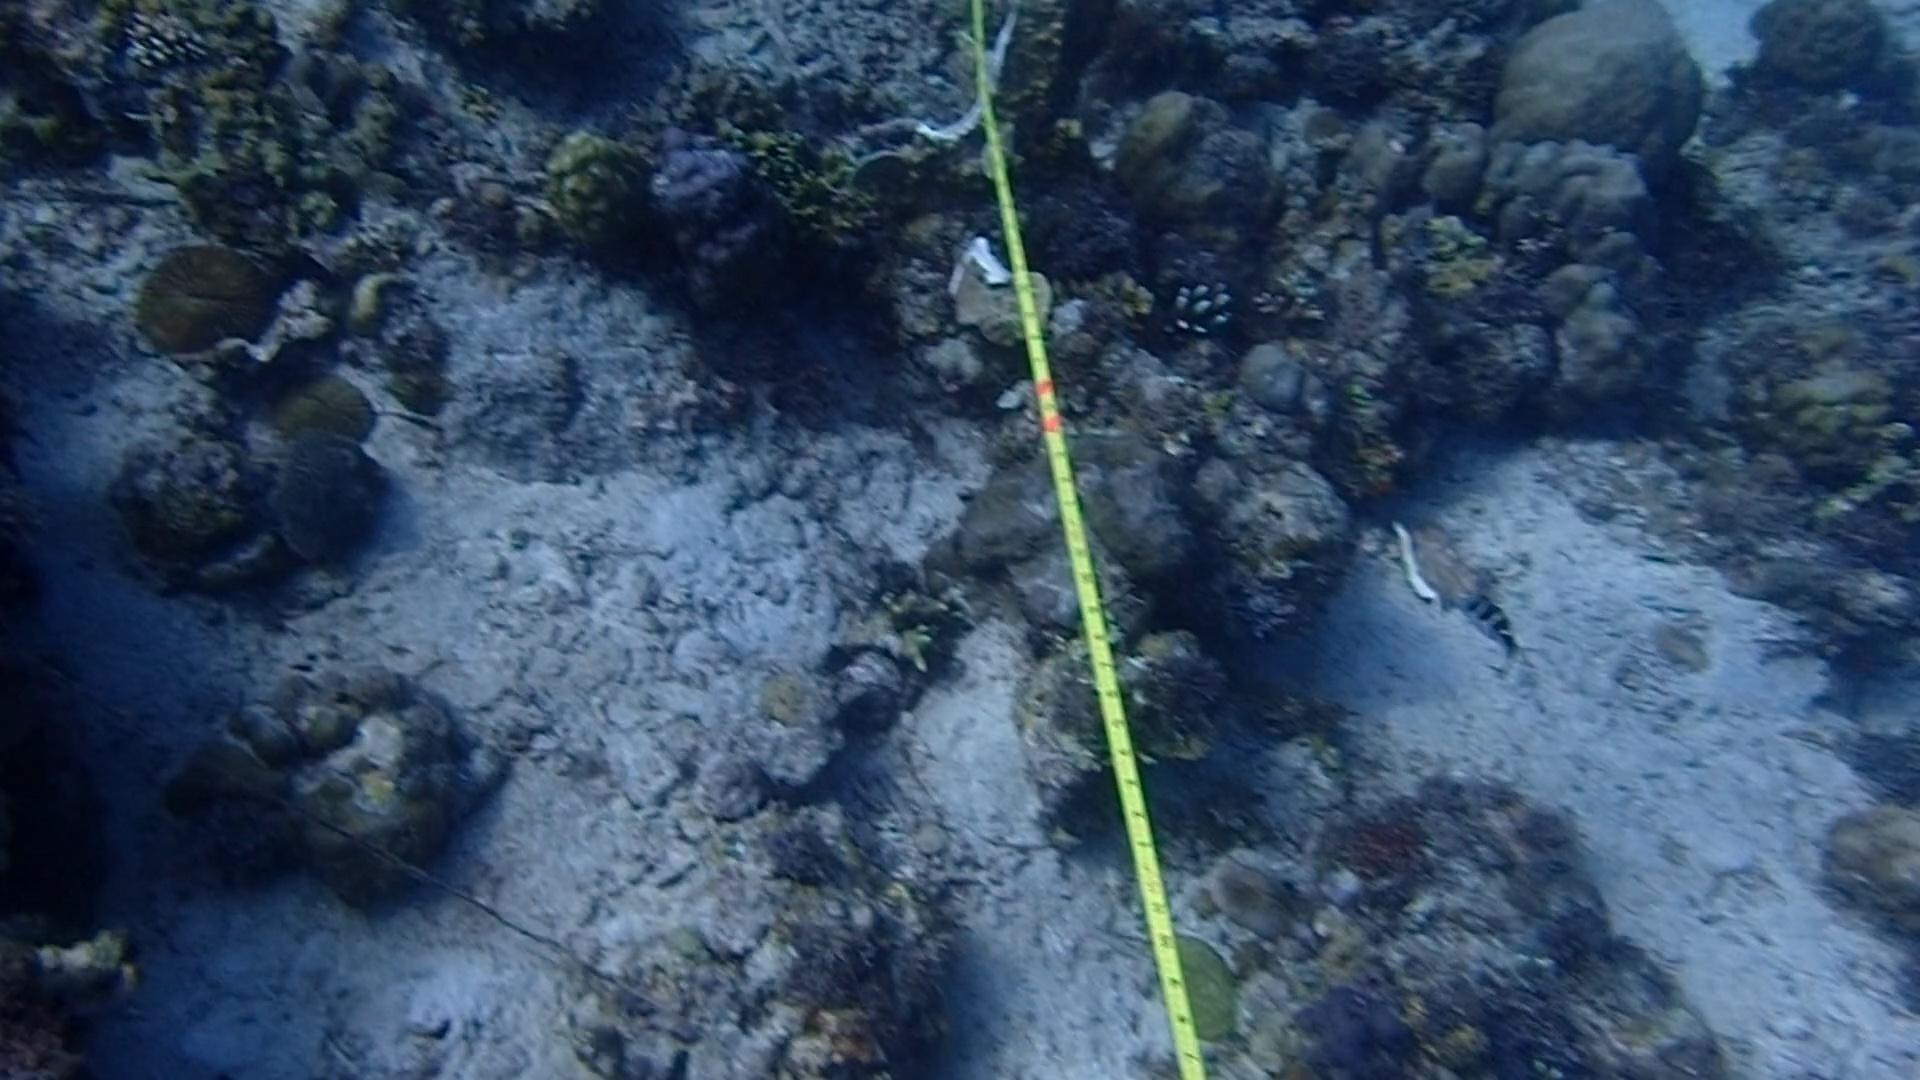Striped Fish: (1445, 580, 1542, 682)
